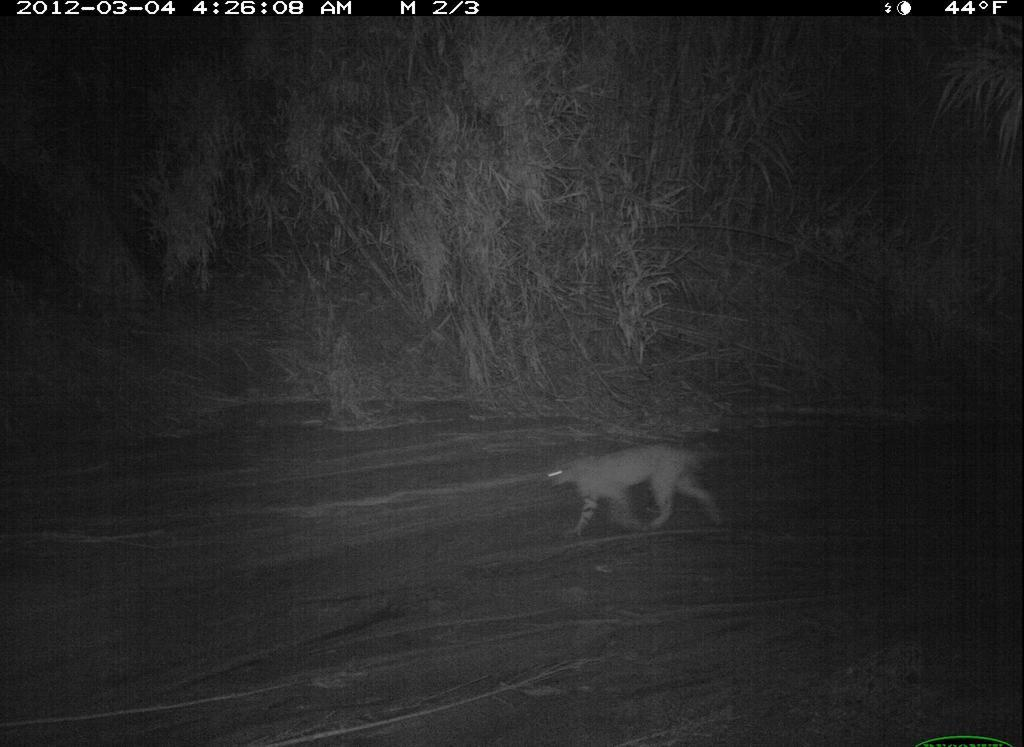bobcat: (541, 438, 735, 542)
